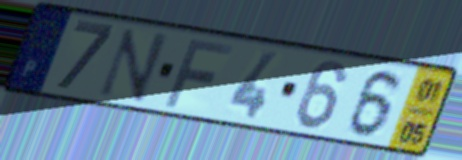4: (225, 49, 280, 122)
6: (292, 58, 351, 131), (347, 67, 405, 139)
7: (51, 17, 120, 94)
F: (161, 35, 237, 110)
N: (94, 26, 173, 105)
